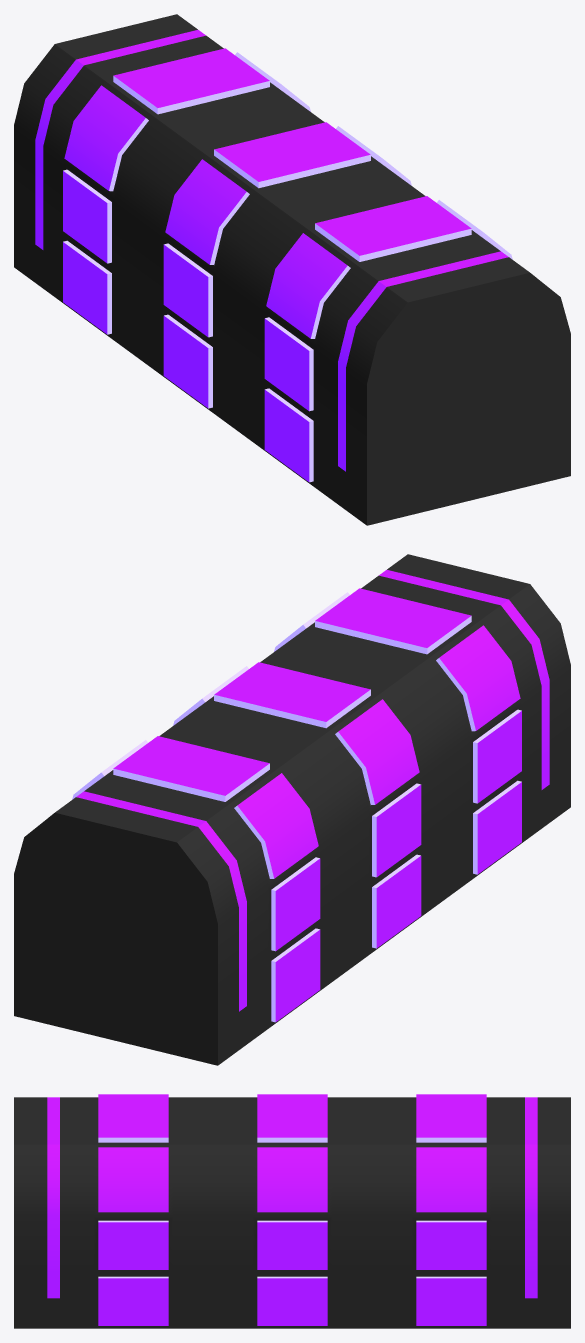
Rendered from barrier.fbx.
3 views of the same model, one above another, from view 1: azimuth 30°, elevation 25°; view 2: azimuth 150°, elevation 25°; view 3: azimuth 270°, elevation 25° (orthographic). The views are drawn at different scales.
Visible parts, largest first — view 1: Cube; view 2: Cube; view 3: Cube.
Part boxes in pixels (x1=…): Cube: x1=14, y1=14, x2=570, y2=525; Cube: x1=14, y1=554, x2=570, y2=1065; Cube: x1=14, y1=1094, x2=570, y2=1328.
Bounding box in the file's own units: 209 × 206 × 600.
